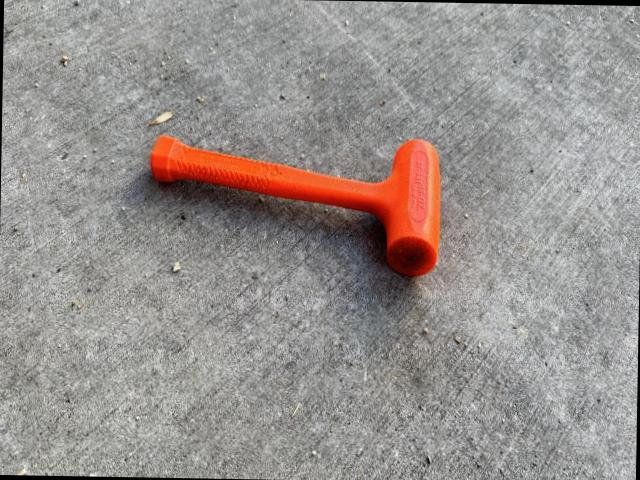hammer: (146, 132, 440, 276)
